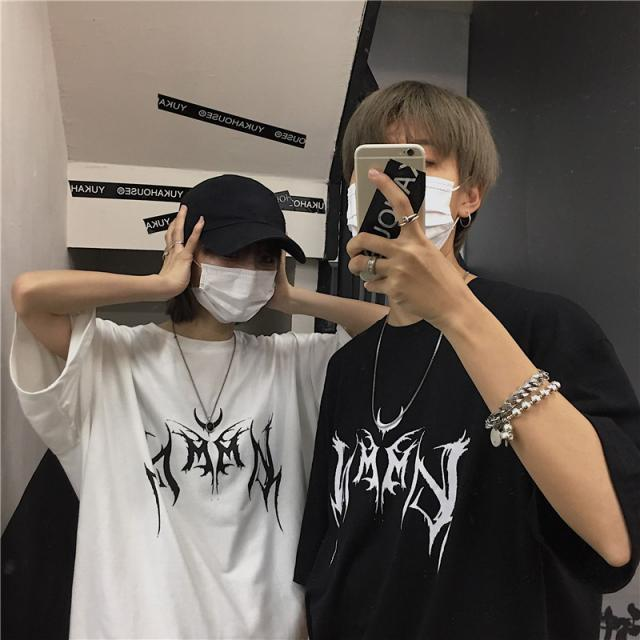Shirt: (9, 284, 381, 639), (287, 268, 639, 640)
